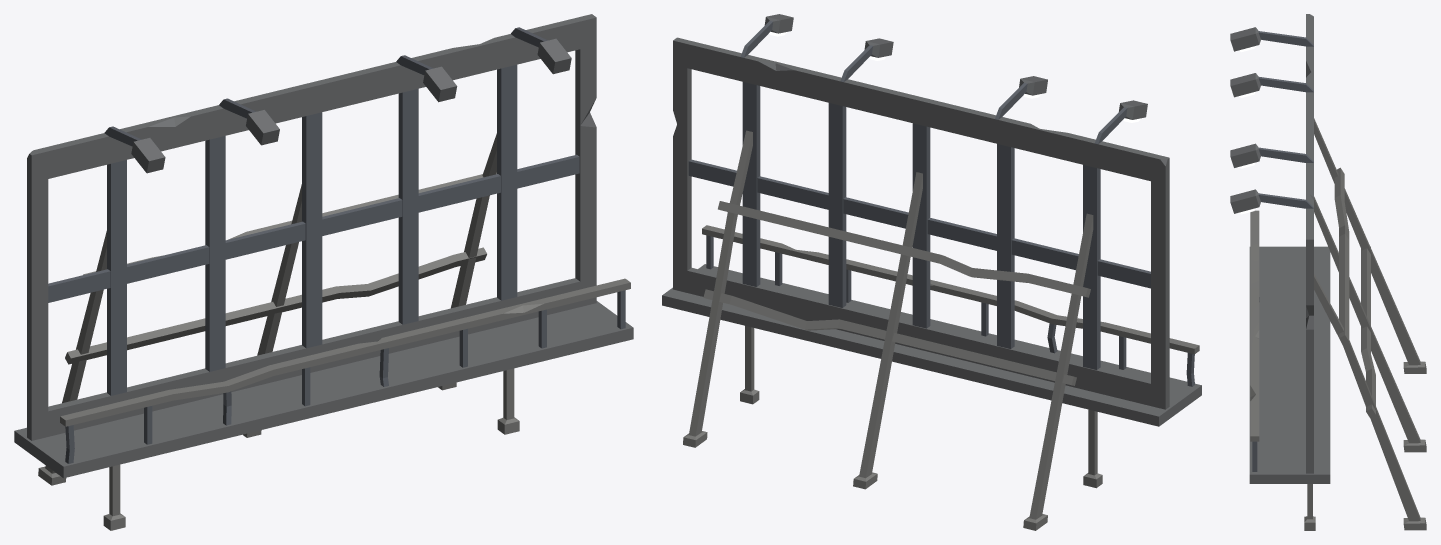
Rendered from SM_Prop_Billboard_Roof_01.fbx.
The picture shows the model from 3 angles, left to right: view 1: azimuth 30°, elevation 25°; view 2: azimuth 150°, elevation 25°; view 3: azimuth 270°, elevation 25°; orthographic projection. The views are drawn at different scales.
Parts seen in each view (by area): view 1: SM_Prop_Billboard_Roof_01; view 2: SM_Prop_Billboard_Roof_01; view 3: SM_Prop_Billboard_Roof_01.
Part boxes in pixels (x1,y1,x2,y2): SM_Prop_Billboard_Roof_01: [14, 14, 633, 530]; SM_Prop_Billboard_Roof_01: [662, 14, 1201, 530]; SM_Prop_Billboard_Roof_01: [1230, 14, 1426, 530].
Bounding box in the file's own units: 443 × 306 × 161.
